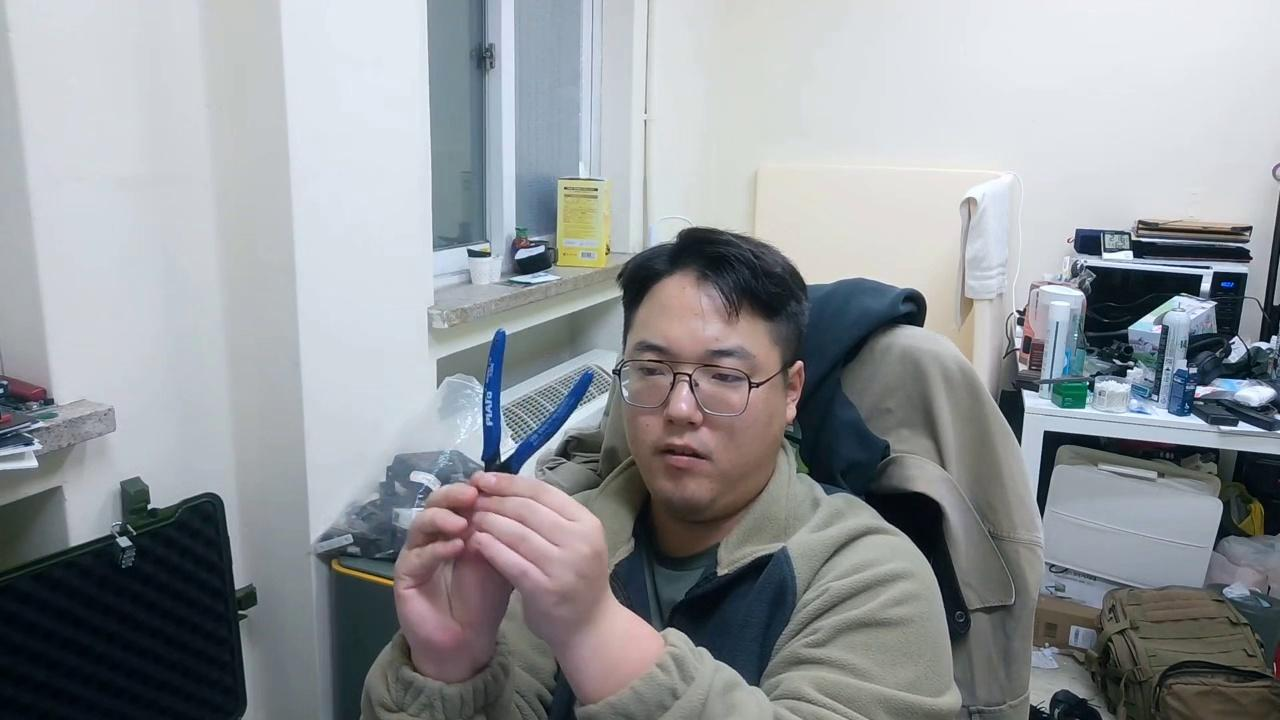blue_pliers: (479, 327, 509, 473)
